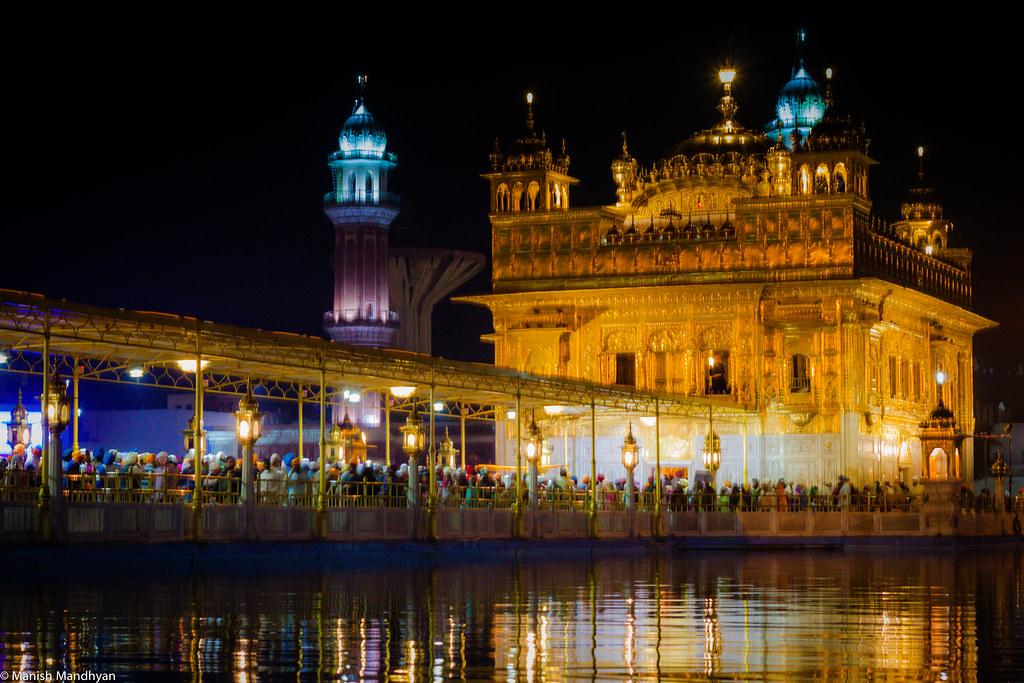temple: (449, 26, 1002, 507)
